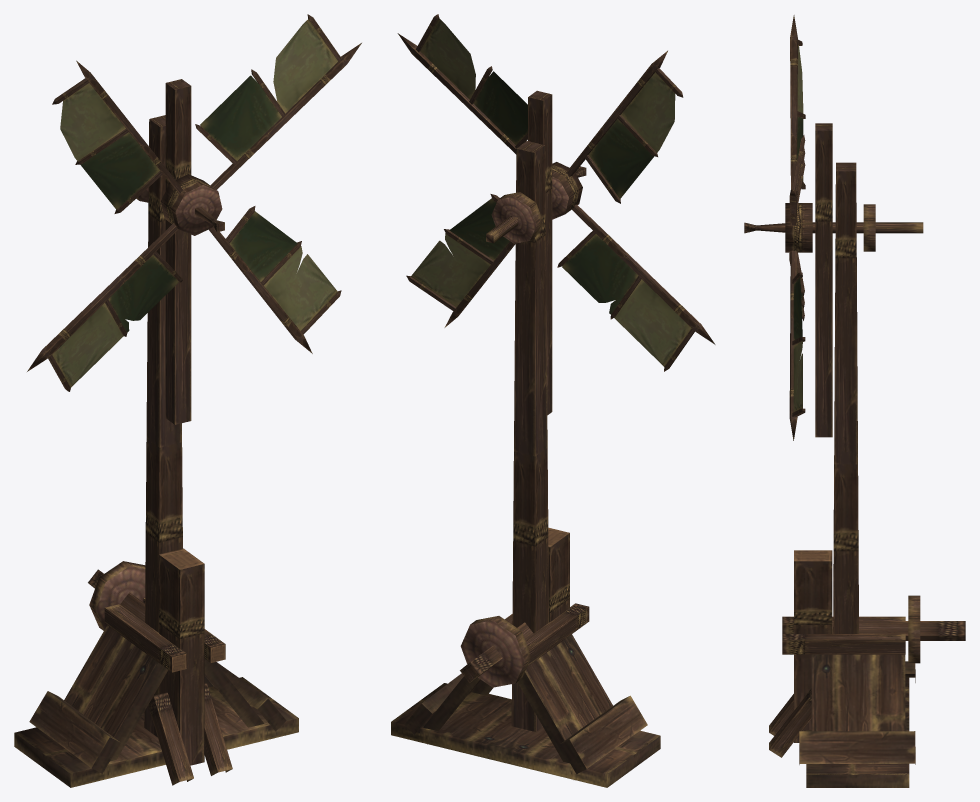
Rendered from common_yewai_shamofengche.FBX.
The picture shows the model from 3 angles, left to right: view 1: azimuth 30°, elevation 25°; view 2: azimuth 150°, elevation 25°; view 3: azimuth 270°, elevation 25°; orthographic projection. The views are drawn at different scales.
Visible parts, largest first — view 1: common_yewai_shamofengche; view 2: common_yewai_shamofengche; view 3: common_yewai_shamofengche.
Boxes of the visible parts, box(x1,y1,x2,y2) form: common_yewai_shamofengche: box(14, 14, 361, 787); common_yewai_shamofengche: box(391, 14, 715, 787); common_yewai_shamofengche: box(744, 15, 965, 787).
Bounding box in the file's own units: 3.92 × 2.45 × 8.29.
